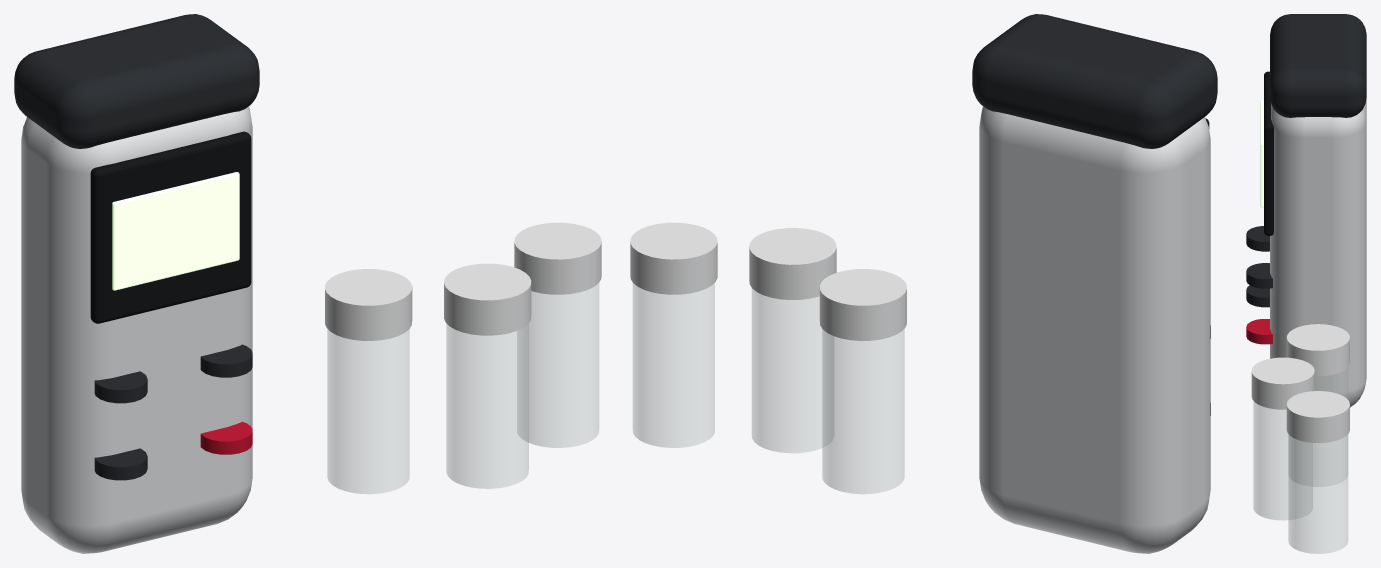
File: ntb-1.glb
3 renders of one model, left to right at view 1: azimuth 30°, elevation 25°; view 2: azimuth 150°, elevation 25°; view 3: azimuth 270°, elevation 25°, orthographic. The views are drawn at different scales.
Bounding box in the file's own units: 0.2655 × 0.22 × 0.0685.
